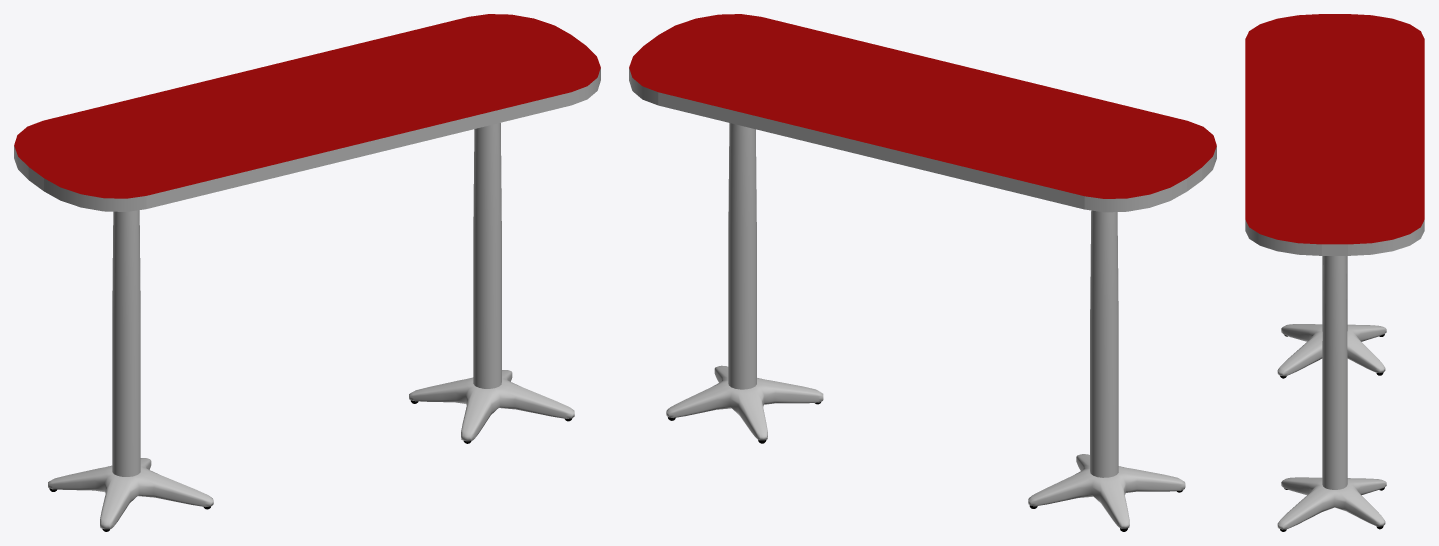
The model's file is BarTafel.fbx.
3 views of the same model, side by side, from view 1: azimuth 30°, elevation 25°; view 2: azimuth 150°, elevation 25°; view 3: azimuth 270°, elevation 25° (orthographic). The views are drawn at different scales.
Visible parts, largest first — view 1: Table; view 2: Table; view 3: Table.
Boxes of the visible parts, x1,y1,x2,y2 form: Table: (14,14,600,531); Table: (629,14,1216,531); Table: (1245,14,1424,531).
Bounding box in the file's own units: 10.55 × 6.49 × 3.47.
